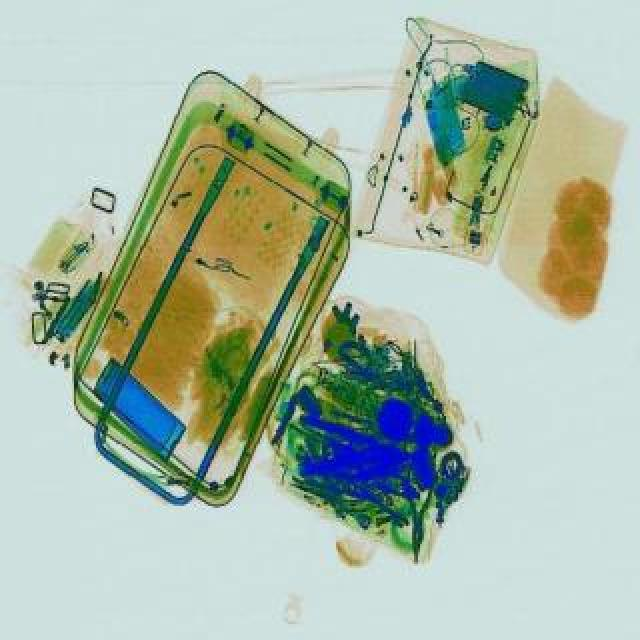scissors: (344, 474, 412, 530)
wrench: (400, 460, 436, 560)
